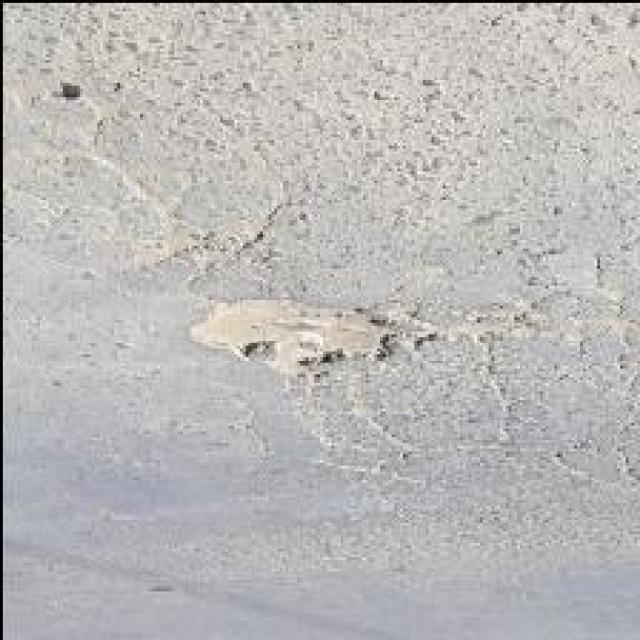BACHE: (191, 300, 385, 375)
PIEL DE COCODRILO: (279, 293, 639, 510), (1, 69, 299, 286)
